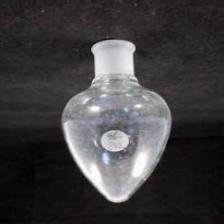Pear shaped flask: (57, 29, 174, 210)
